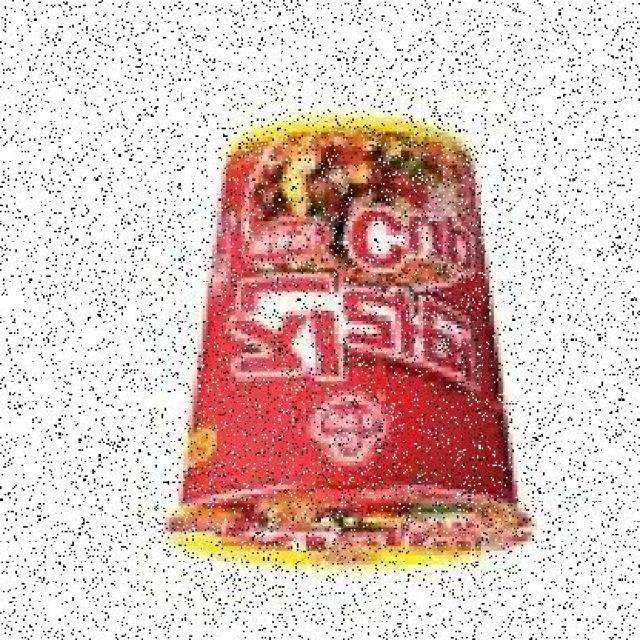Miscellaneous: (162, 100, 540, 592)
